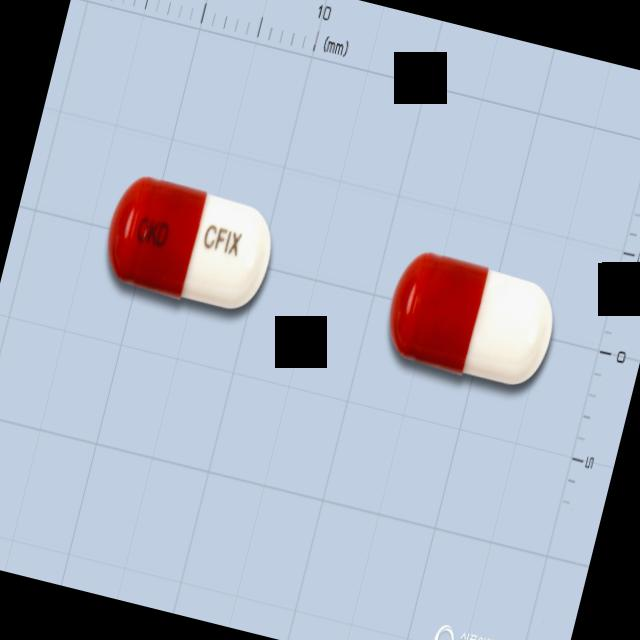Pocef Cap: (96, 168, 282, 318)
